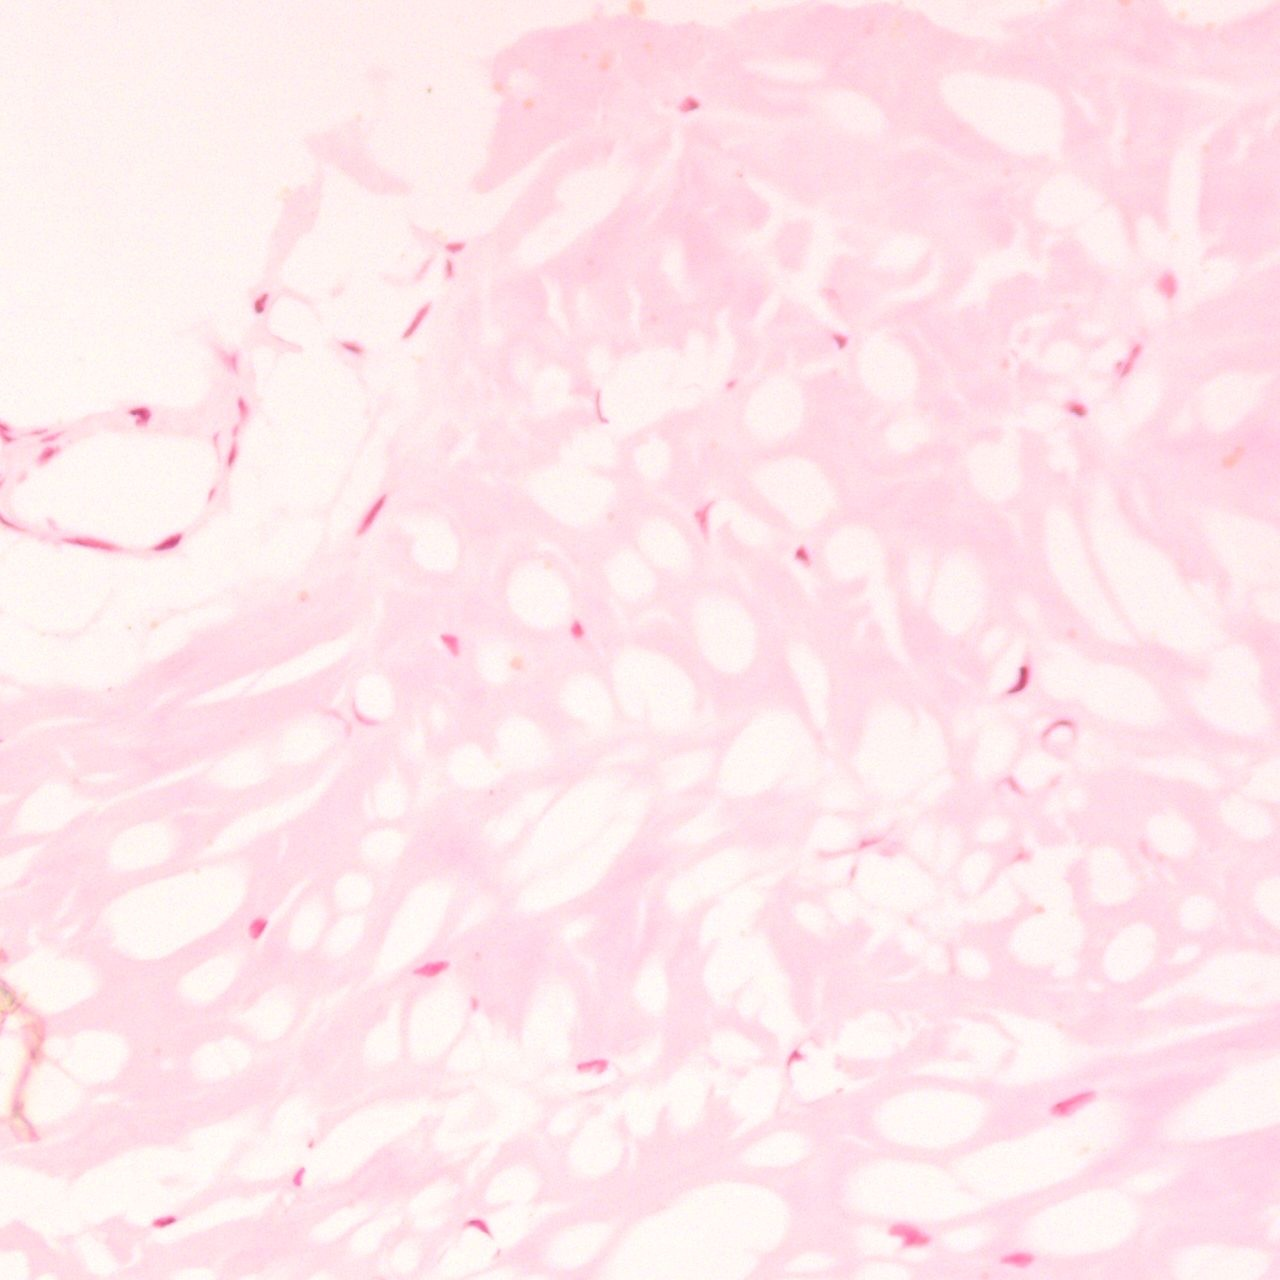nucleus-AC: (1047, 1084, 1098, 1121), (399, 297, 435, 345), (355, 491, 389, 537), (59, 531, 123, 552), (886, 1221, 931, 1246), (1036, 712, 1073, 741), (410, 956, 452, 981), (150, 529, 188, 556), (572, 1055, 611, 1080), (463, 1212, 493, 1240), (1008, 662, 1032, 697), (32, 440, 62, 467), (1118, 343, 1141, 379), (243, 913, 268, 941), (149, 1210, 179, 1232), (999, 1251, 1034, 1269), (338, 335, 367, 358), (1156, 268, 1177, 297), (438, 632, 459, 659), (595, 388, 610, 424), (38, 427, 64, 445), (234, 395, 250, 423), (129, 408, 151, 427), (224, 442, 240, 467), (678, 95, 699, 113), (253, 291, 268, 314), (831, 332, 850, 350), (21, 425, 48, 438), (1063, 401, 1085, 416), (794, 544, 809, 564), (787, 1047, 801, 1065), (570, 619, 583, 638), (445, 241, 465, 253), (292, 1166, 304, 1186), (445, 259, 452, 278)
